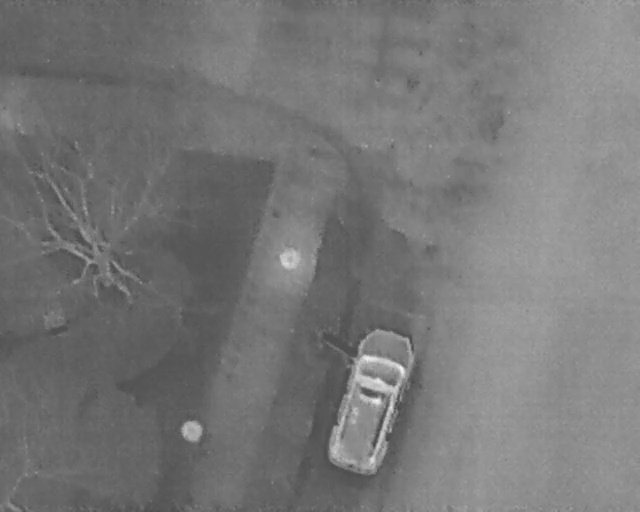Car: (320, 323, 421, 480)
